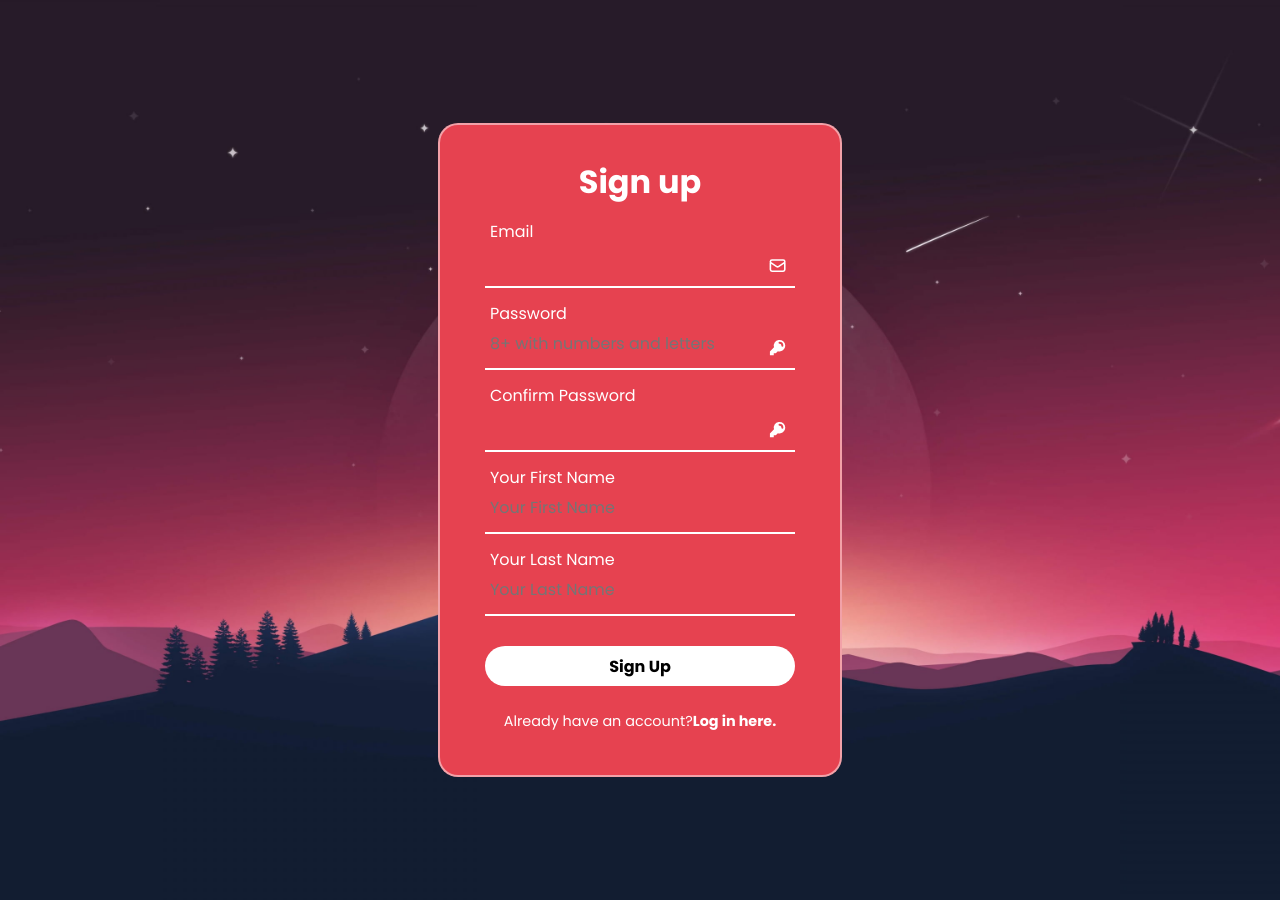
Test Signup component › displays an error message when password and confirm_password do not match
Type "test@example.com" into the field labelled "Email".
click(660, 261); type("test@example.com")  # box 485,236 -> 835,286
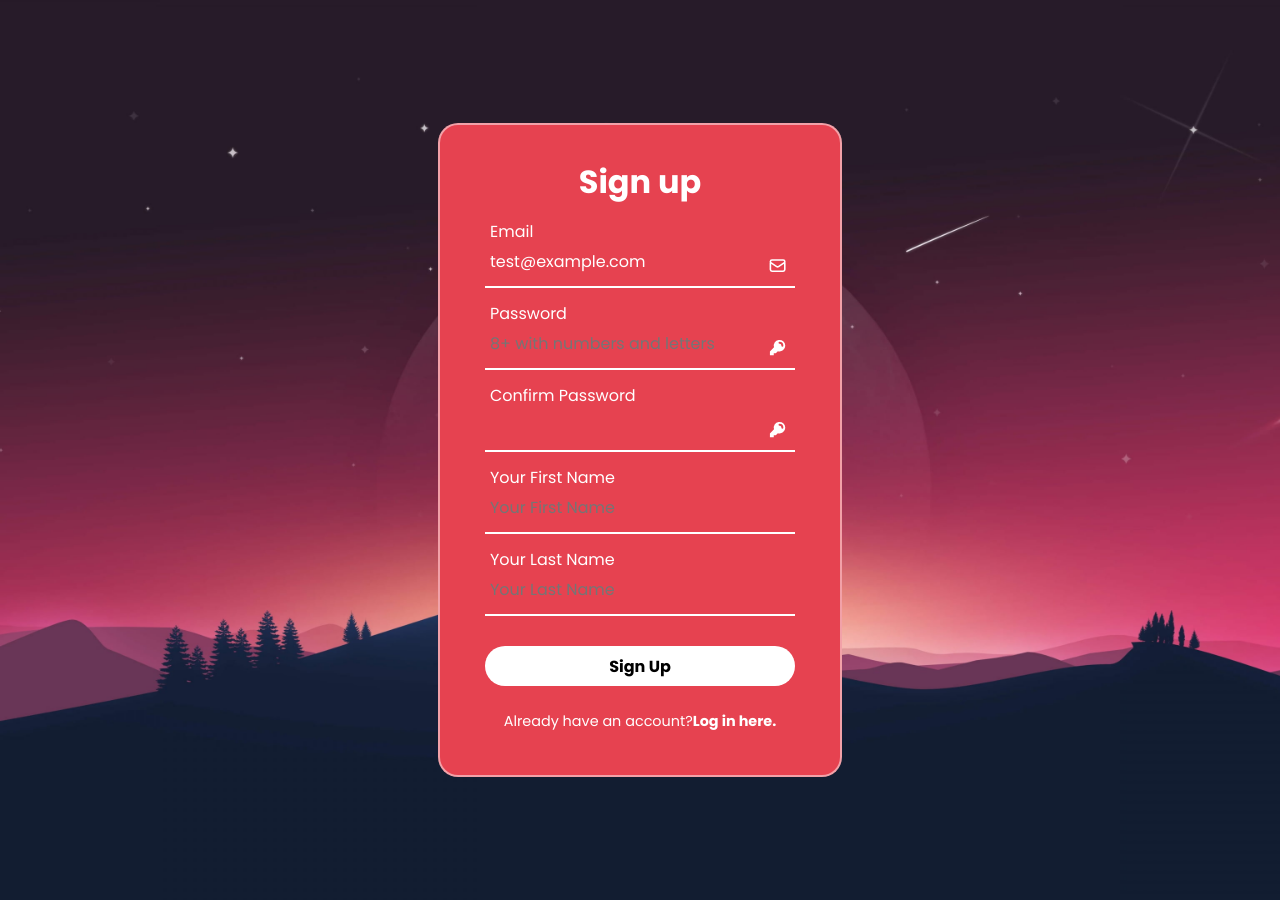
Type "correct123" into the password field labelled "Password".
click(660, 343); type("correct123")  # box 485,318 -> 835,368
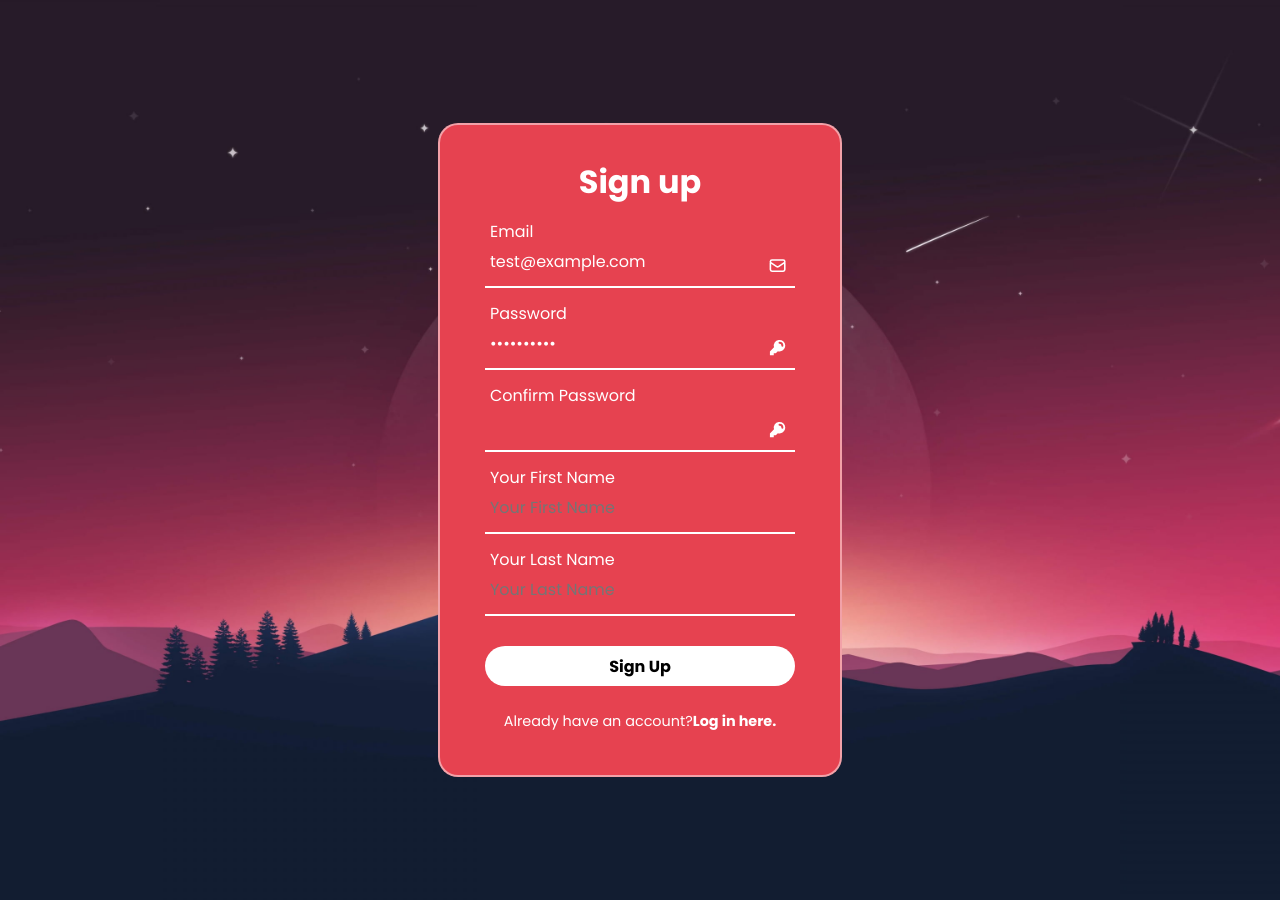
Type "wrong1234" into the password field labelled "Confirm Password".
click(660, 425); type("wrong1234")  # box 485,400 -> 835,450
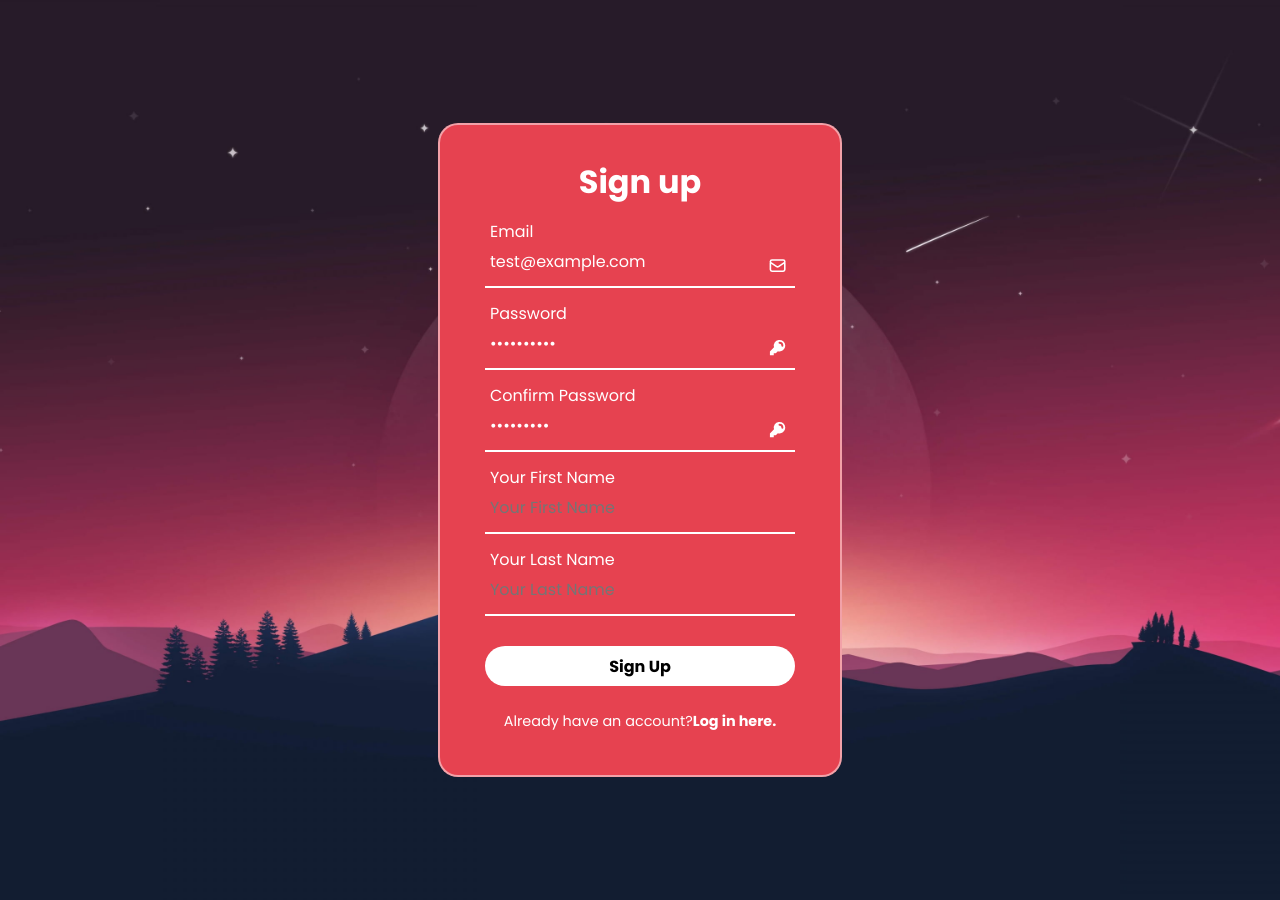
Type "FirstName" into the field labelled "Your First Name".
click(660, 507); type("FirstName")  # box 485,482 -> 835,532
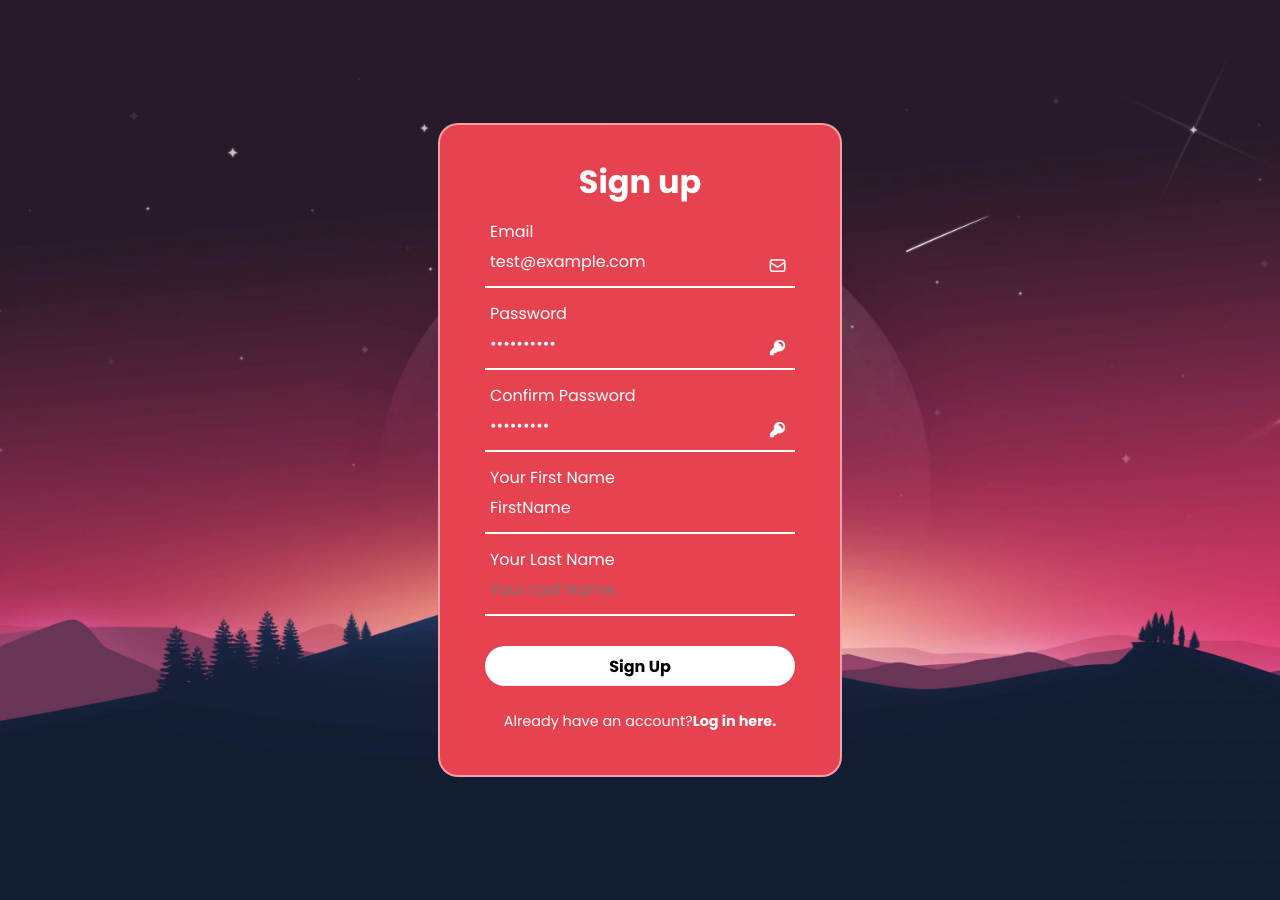
Type "LastName" into the field labelled "Your Last Name".
click(660, 589); type("LastName")  # box 485,564 -> 835,614
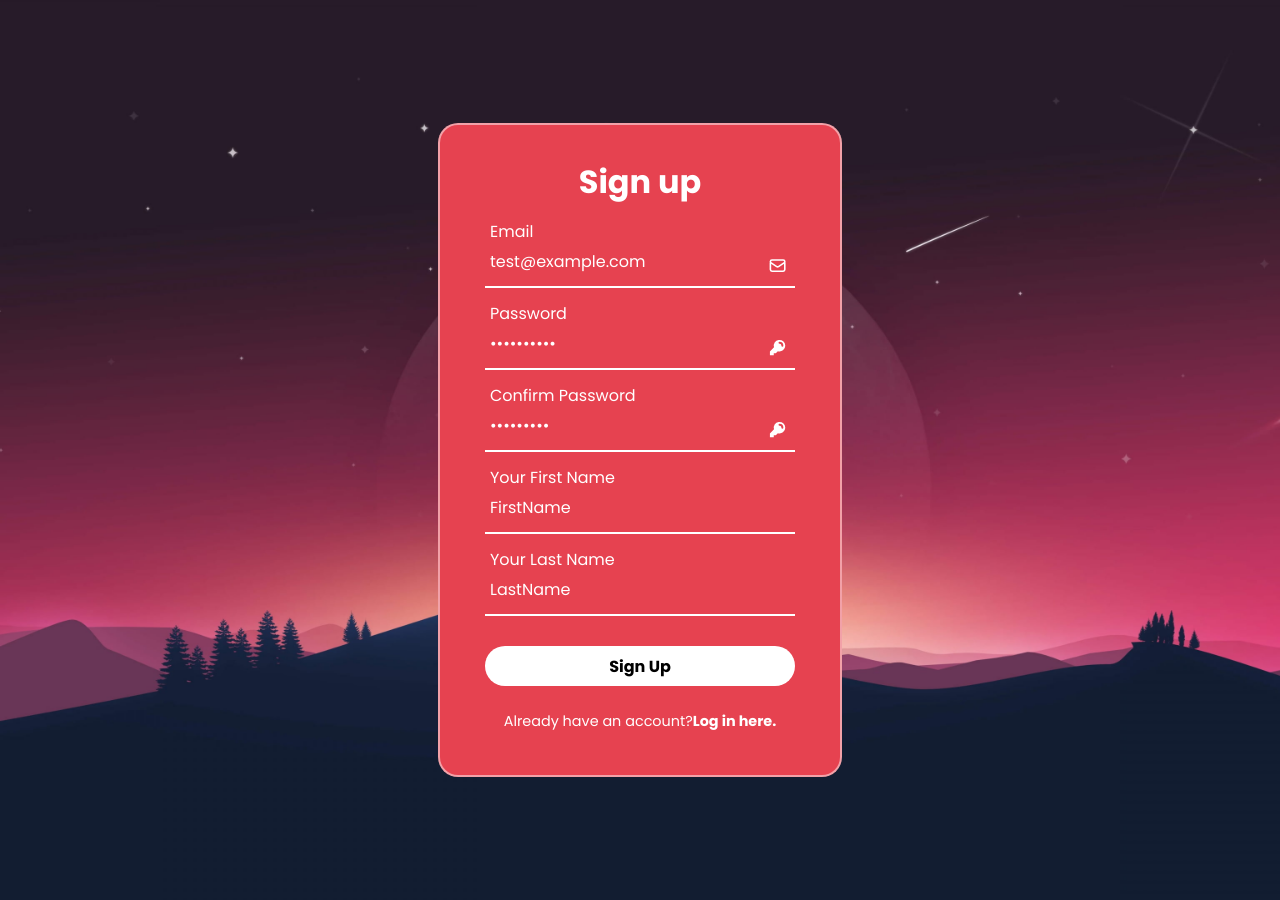
Click the button "Sign Up".
click(640, 666)  # box 485,646 -> 795,686
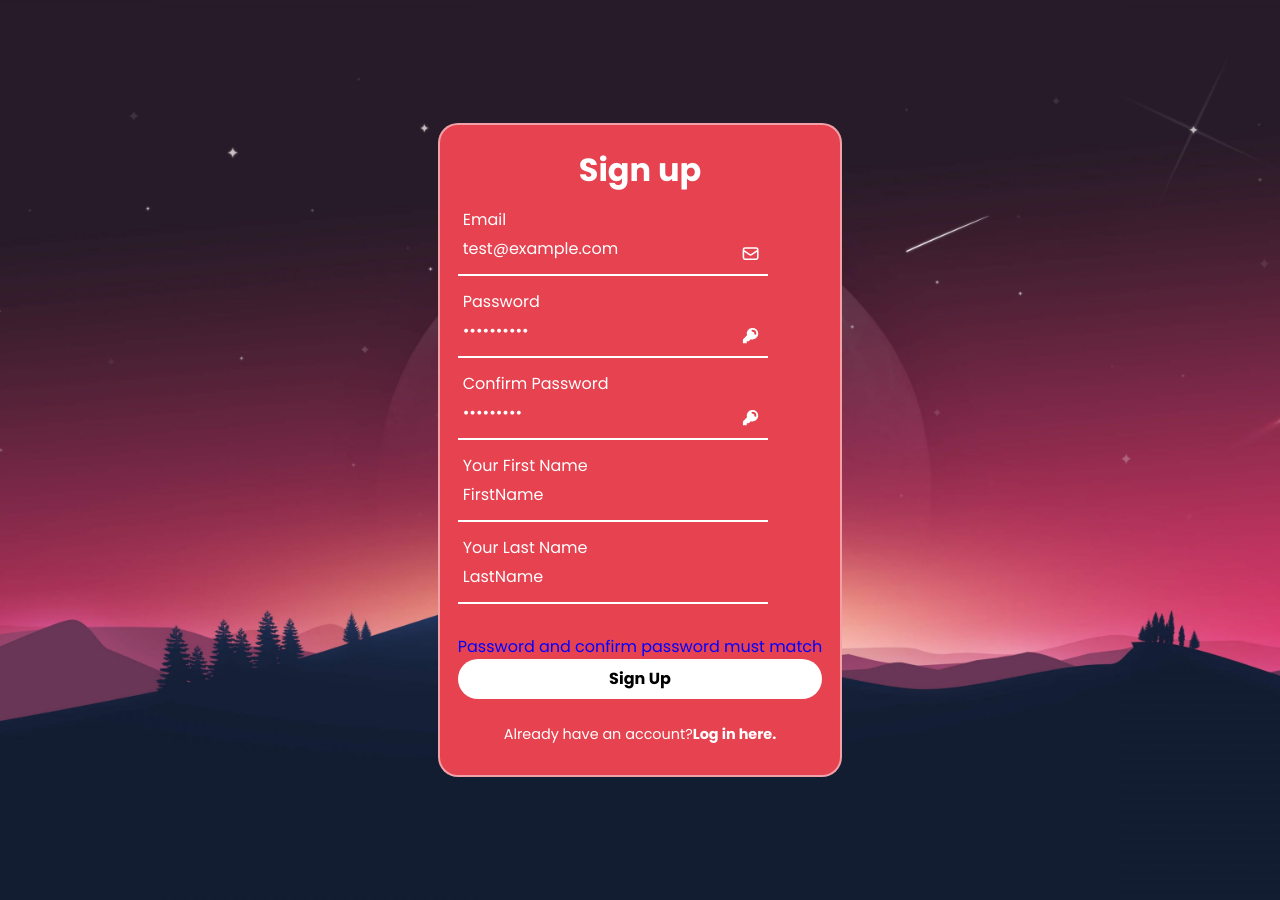
Result: the text "Password and confirm password must match" is shown at 458,634 -> 822,658
